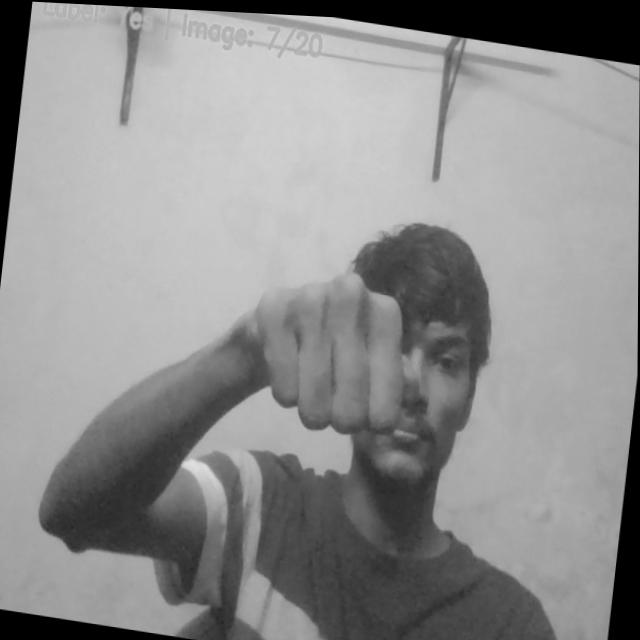Yes: (249, 247, 424, 462)
